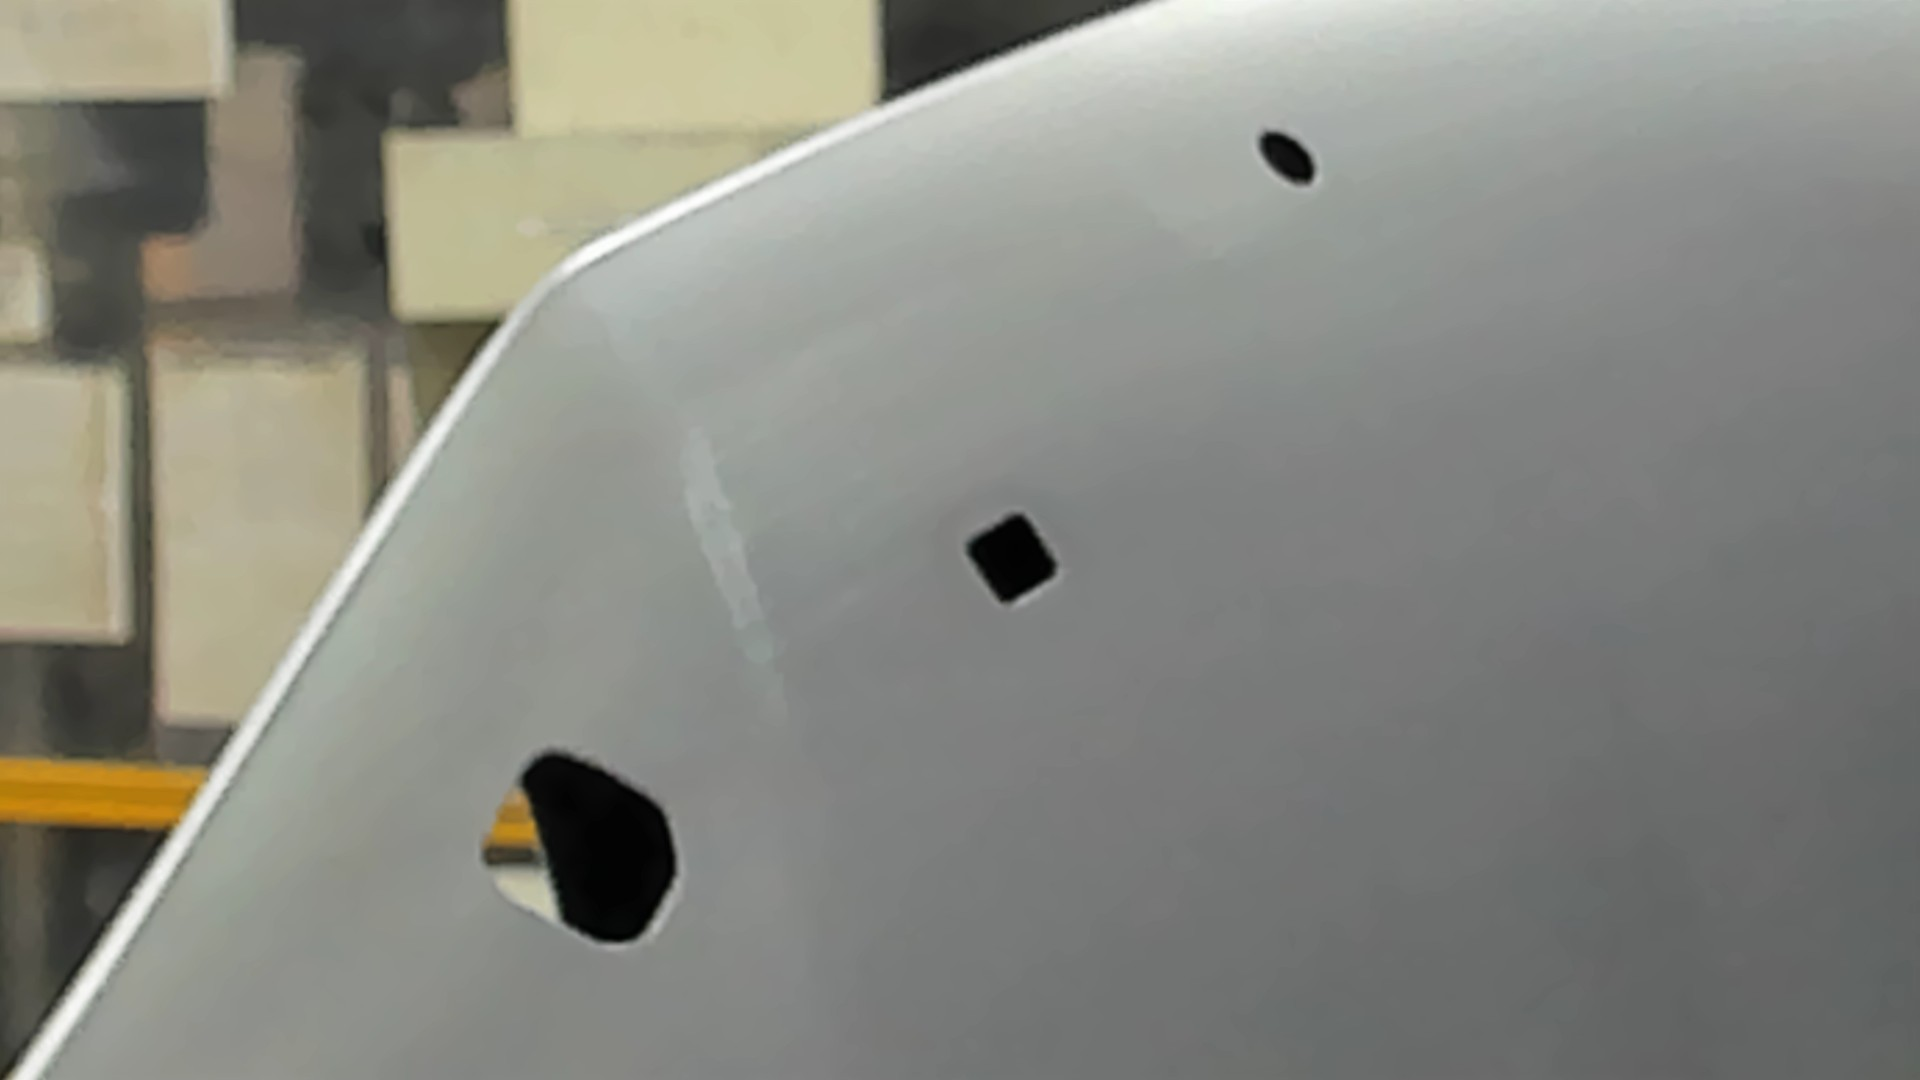chico: (1251, 120, 1321, 195)
grande: (472, 742, 690, 951)
mediano: (959, 508, 1065, 611)
